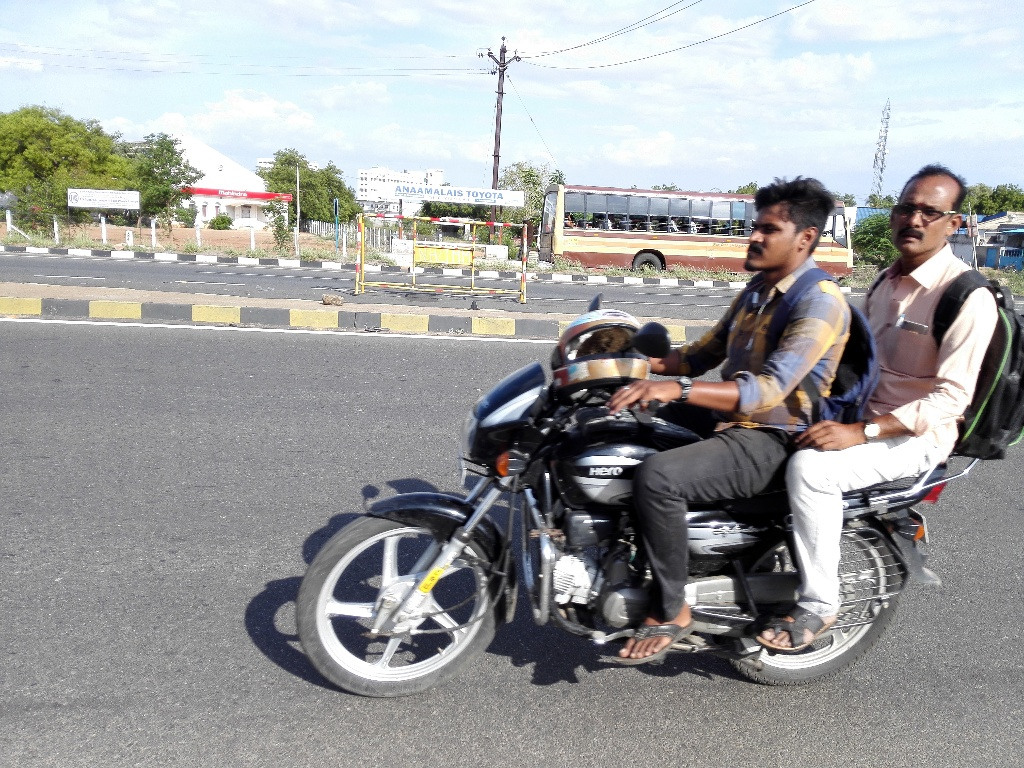biker: (277, 126, 1024, 717)
nohelmet: (736, 160, 842, 290), (883, 153, 981, 272)
